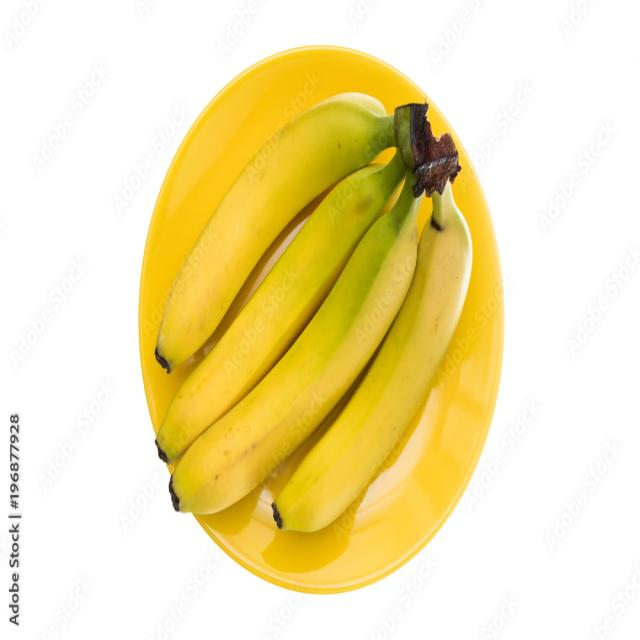Banana: (170, 180, 421, 513), (158, 150, 406, 463), (272, 182, 472, 531), (155, 92, 398, 372)
